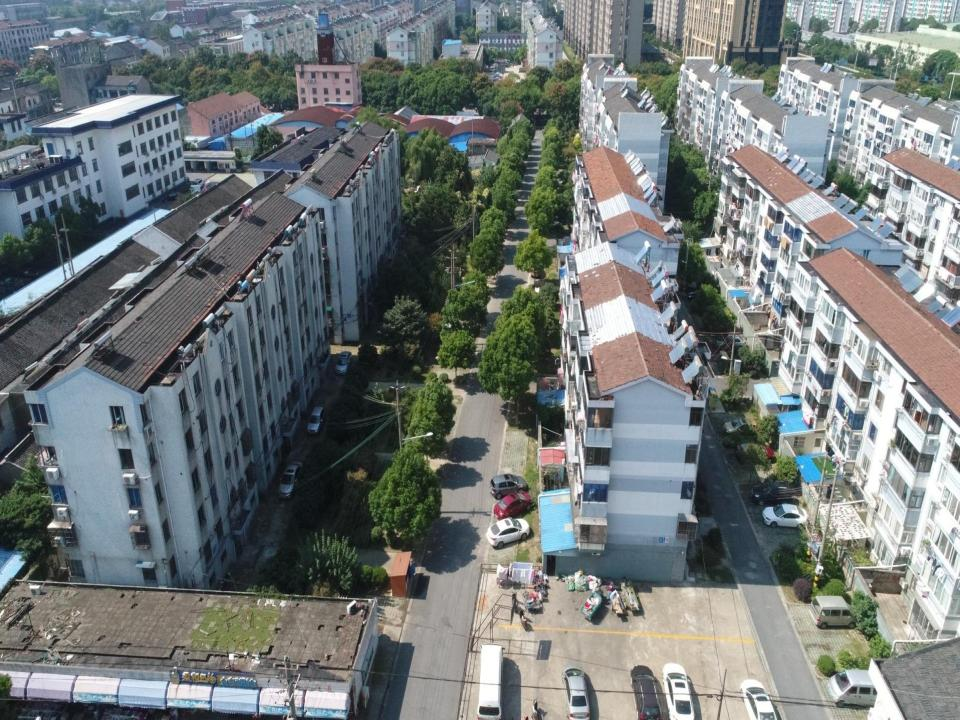car: (662, 662, 695, 720), (629, 664, 662, 719), (560, 664, 591, 720), (740, 678, 777, 719), (486, 516, 530, 549), (493, 490, 531, 523), (761, 504, 809, 530), (751, 480, 793, 506), (489, 473, 527, 499), (278, 460, 302, 499), (735, 442, 777, 464), (723, 418, 758, 437), (306, 405, 326, 434), (716, 332, 746, 350), (335, 350, 352, 374), (161, 191, 181, 202), (190, 177, 205, 191)
van: (826, 668, 891, 709), (476, 642, 502, 719), (809, 594, 860, 630)
